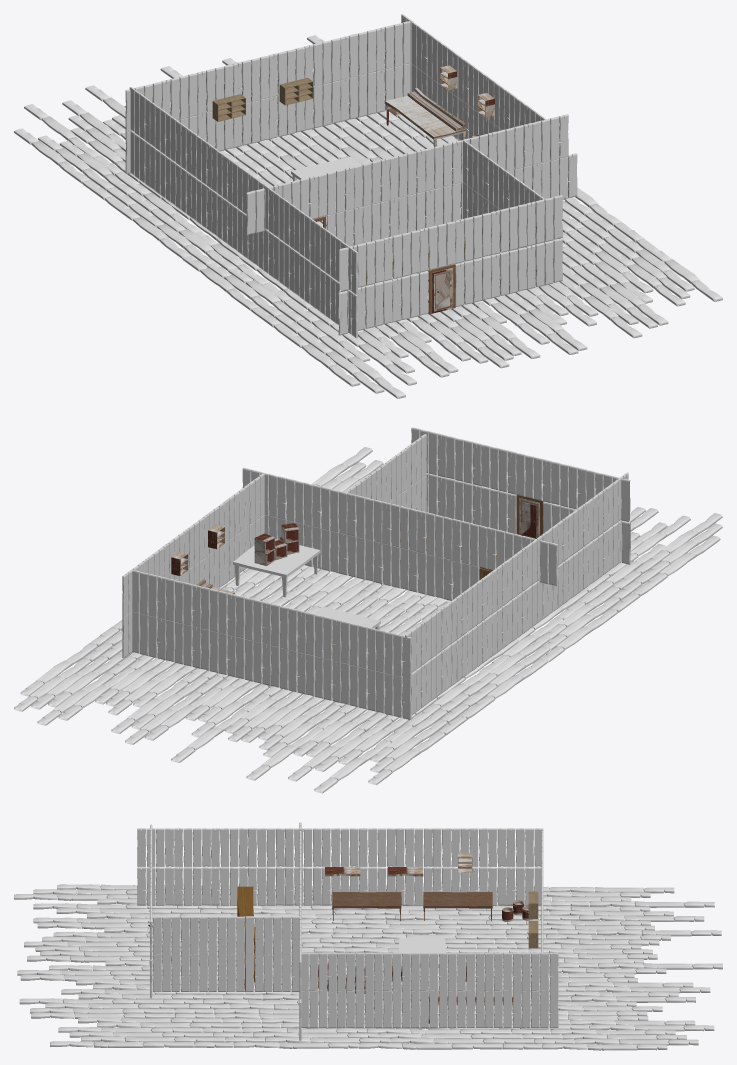
3 views of the same model, one above another, from view 1: azimuth 30°, elevation 25°; view 2: azimuth 150°, elevation 25°; view 3: azimuth 270°, elevation 25° (orthographic). The views are drawn at different scales.
Visible parts, largest first — view 1: SOLV2.002; view 2: SOLV2.002; view 3: SOLV2.002.
Part boxes in pixels (x1,y1,x2,y2): SOLV2.002: (14, 14, 722, 398); SOLV2.002: (14, 427, 722, 793); SOLV2.002: (14, 822, 722, 1050).
Size of the model in its own units: 1907 by 434 by 3479.
